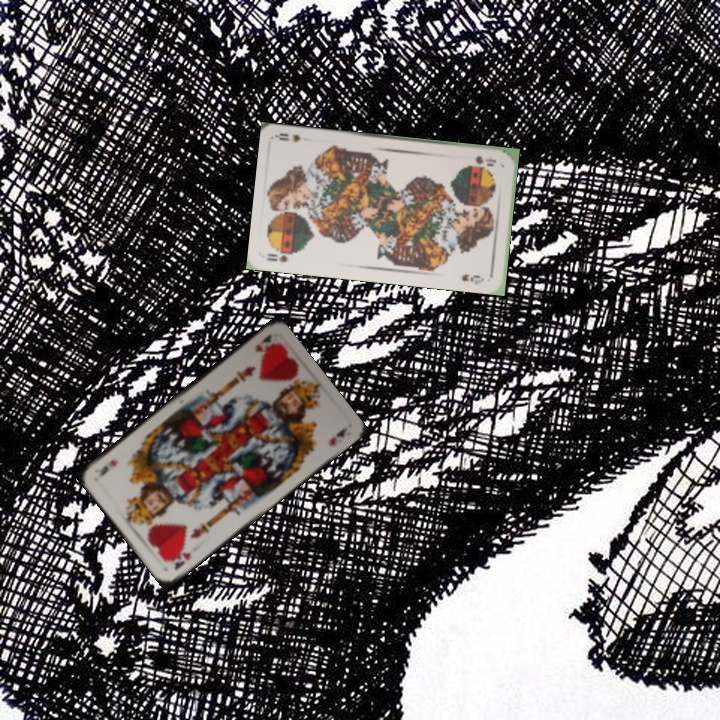HK: (163, 548, 193, 573), (251, 330, 277, 355)
SO: (262, 249, 291, 265), (471, 152, 498, 169)
